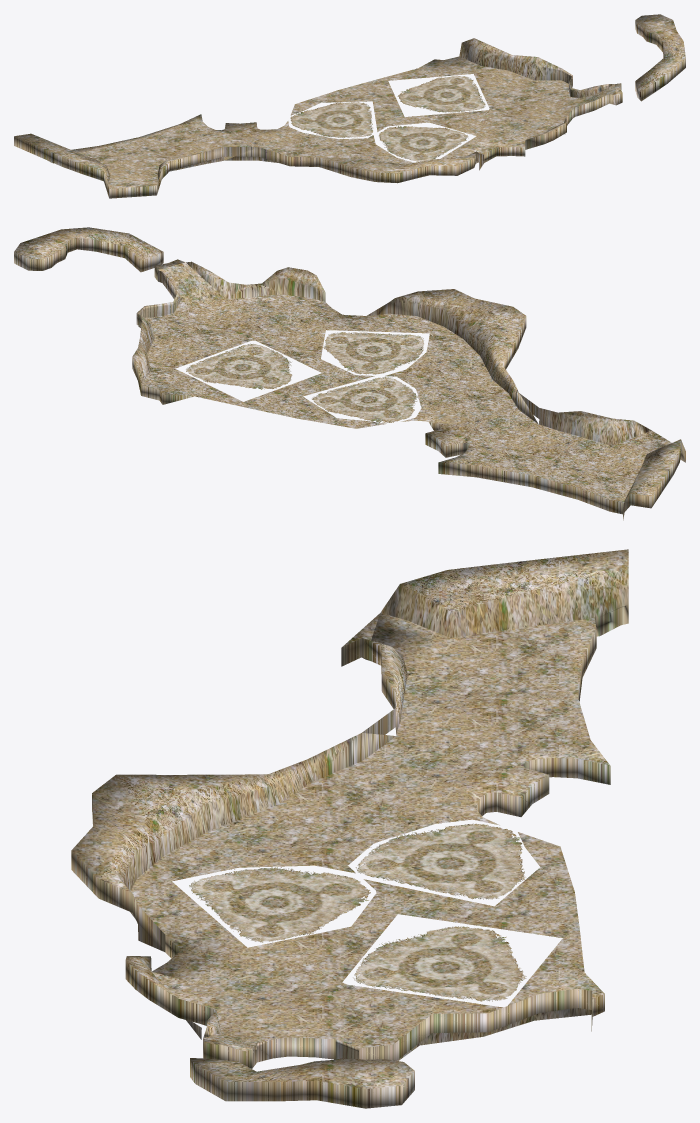
The model's file is landingsite.fbx.
3 views of the same model, one above another, from view 1: azimuth 30°, elevation 25°; view 2: azimuth 150°, elevation 25°; view 3: azimuth 270°, elevation 25° (orthographic). The views are drawn at different scales.
Visible parts, largest first — view 1: m15; view 2: m15; view 3: m15.
Boxes of the visible parts, x1,y1,x2,y2 form: m15: [14, 14, 685, 198]; m15: [14, 227, 685, 520]; m15: [71, 549, 628, 1108].
Bounding box in the file's own units: 20122 × 1561 × 8185.
